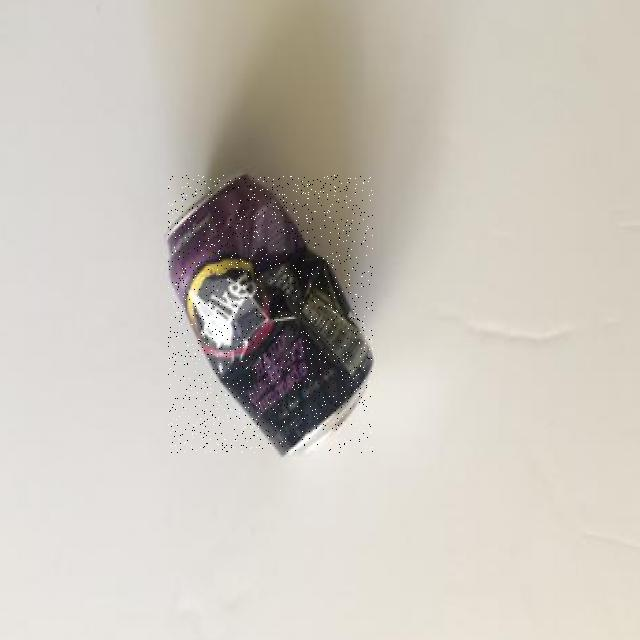metal: (168, 176, 373, 453)
